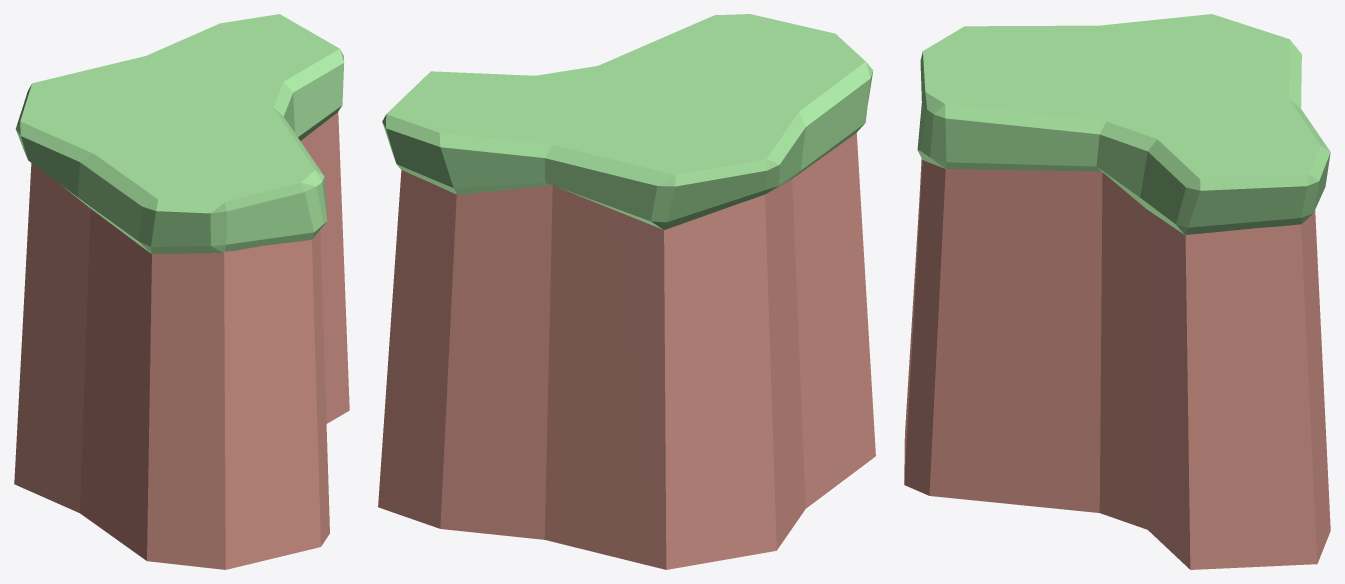
Rendered from Plane_010_Vlad.fbx.
3 renders of one model, left to right at view 1: azimuth 30°, elevation 25°; view 2: azimuth 150°, elevation 25°; view 3: azimuth 270°, elevation 25°, orthographic. The views are drawn at different scales.
Visible parts, largest first — view 1: Plane.010; view 2: Plane.010; view 3: Plane.010.
Boxes of the visible parts, <box> form: Plane.010: <box>14,14,349,569</box>; Plane.010: <box>378,14,875,569</box>; Plane.010: <box>904,14,1330,569</box>.
Size of the model in its own units: 199 by 209 by 209.
